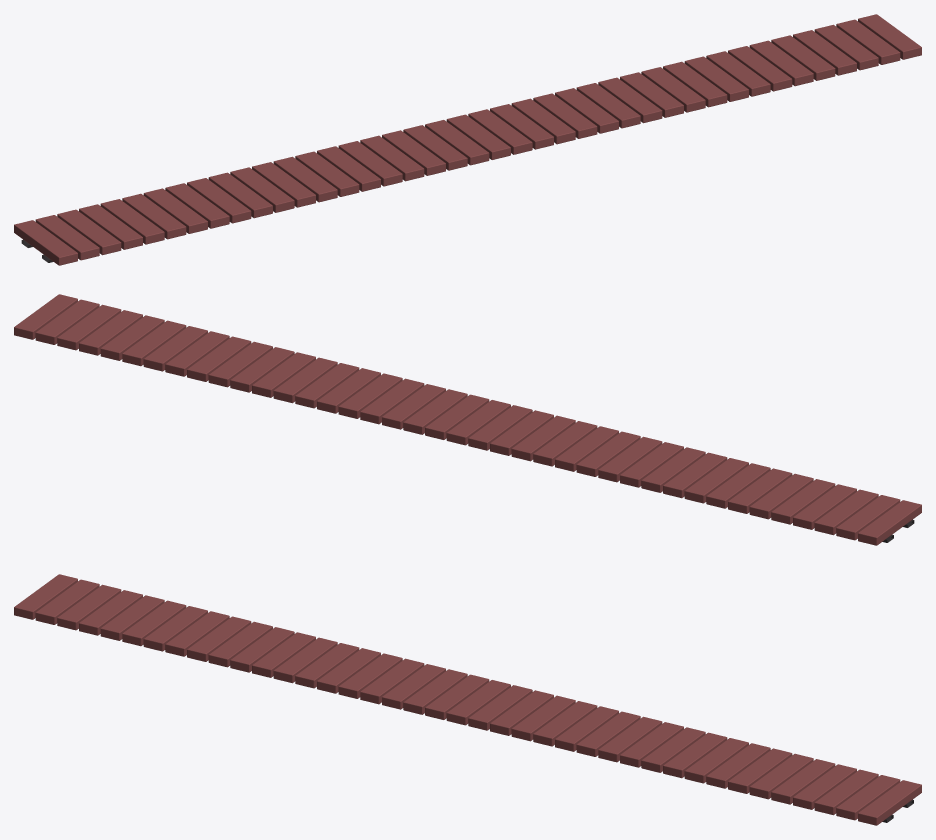
The picture shows the model from 3 angles, top to bottom: view 1: azimuth 30°, elevation 25°; view 2: azimuth 150°, elevation 25°; view 3: azimuth 330°, elevation 25°; orthographic projection.
Visible parts, largest first — view 1: Test; view 2: Test; view 3: Test.
Boxes of the visible parts, x1,y1,x2,y2 form: Test: [14, 14, 921, 265]; Test: [14, 294, 921, 545]; Test: [14, 574, 921, 825].
Size of the model in its own units: 22.05 by 2 by 0.2901.
